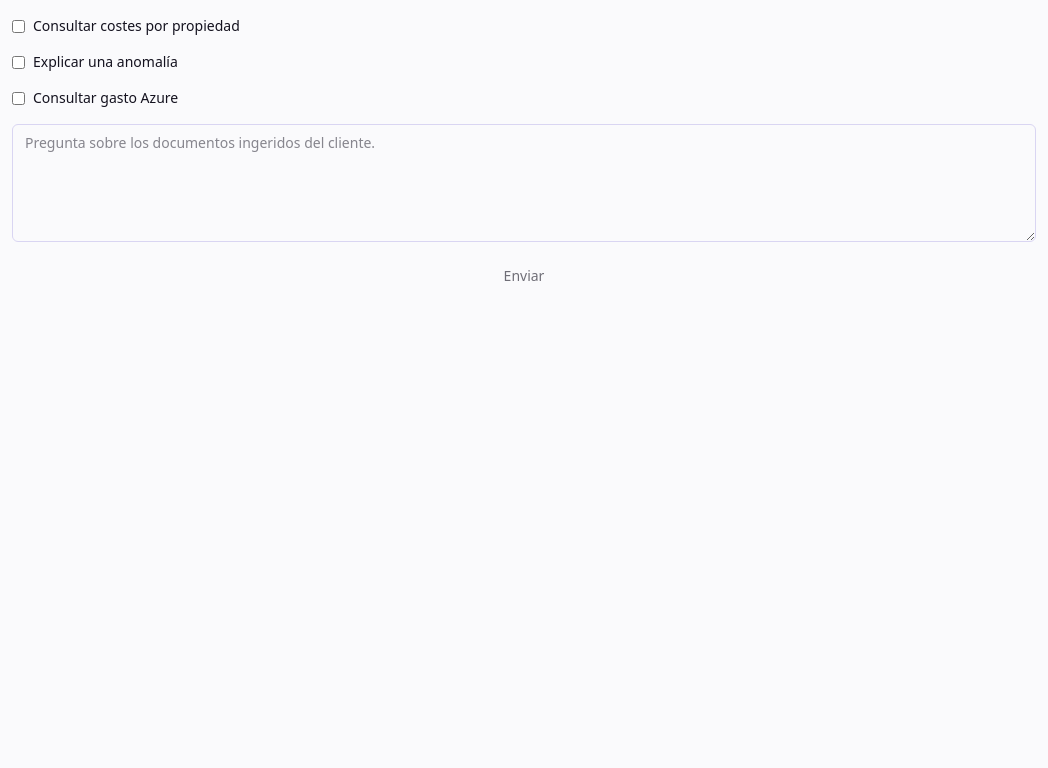
Test: MessageComposer y la fecha de referencia: Consultar costes por propiedad › si falla el endpoint muestra un error y no inventa un periodo
Click the checkbox labelled "Consultar costes por propiedad" at (18, 26), box [12,20,25,32]
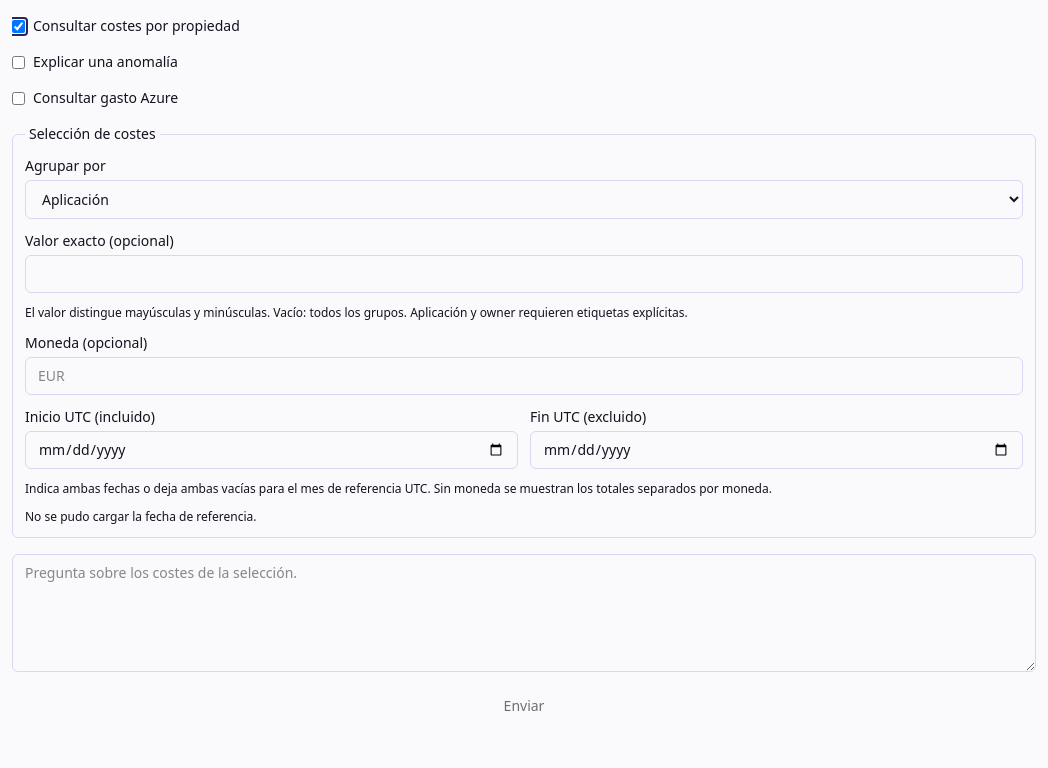
expect the text "No se pudo cargar la fecha de referencia." is shown: met, box [25,508,256,525]
